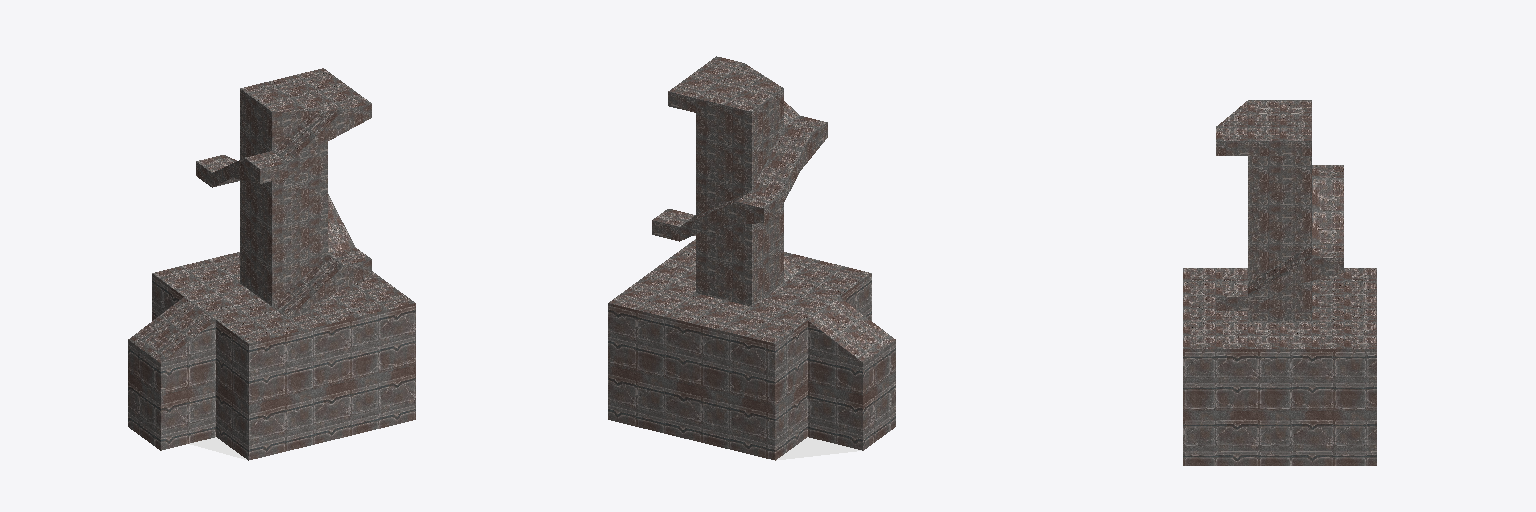
The picture shows the model from 3 angles: view 1: azimuth 30°, elevation 25°; view 2: azimuth 150°, elevation 25°; view 3: azimuth 270°, elevation 25°; orthographic projection.
Visible parts, largest first — view 1: Mesh1 Model; view 2: Mesh1 Model; view 3: Mesh1 Model.
Part boxes in pixels (x1,y1,x2,y2): Mesh1 Model: (128, 68, 415, 460); Mesh1 Model: (608, 56, 895, 460); Mesh1 Model: (1183, 100, 1376, 465).
Size of the model in its own units: 8 by 10.67 by 6.
Materials: 4 (3 with a texture image).